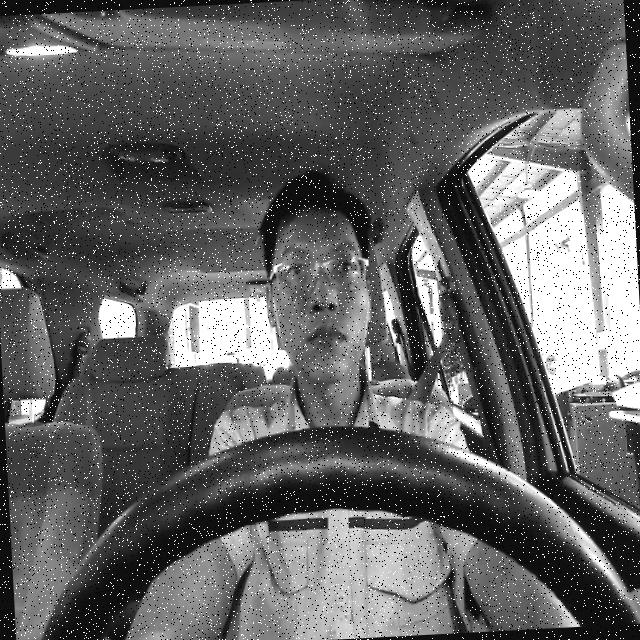focused: (258, 202, 378, 388)
